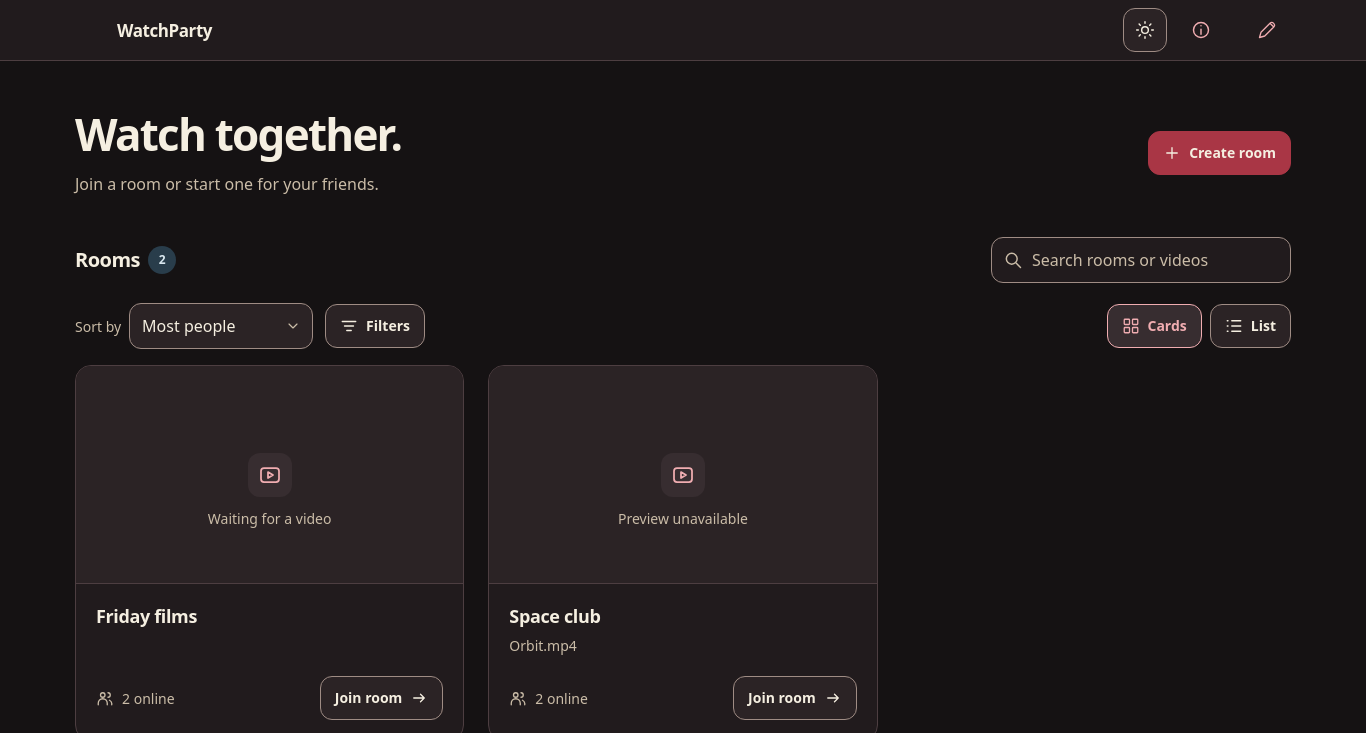
Test: React hub › searches room names and videos and recovers from an empty result
Expected: the heading "Space club" is shown, top-left (509, 604), bottom-right (600, 628)
Type "orbit" into the search field labelled "Search rooms" at (1141, 260), box top-left (991, 237), bottom-right (1291, 283)
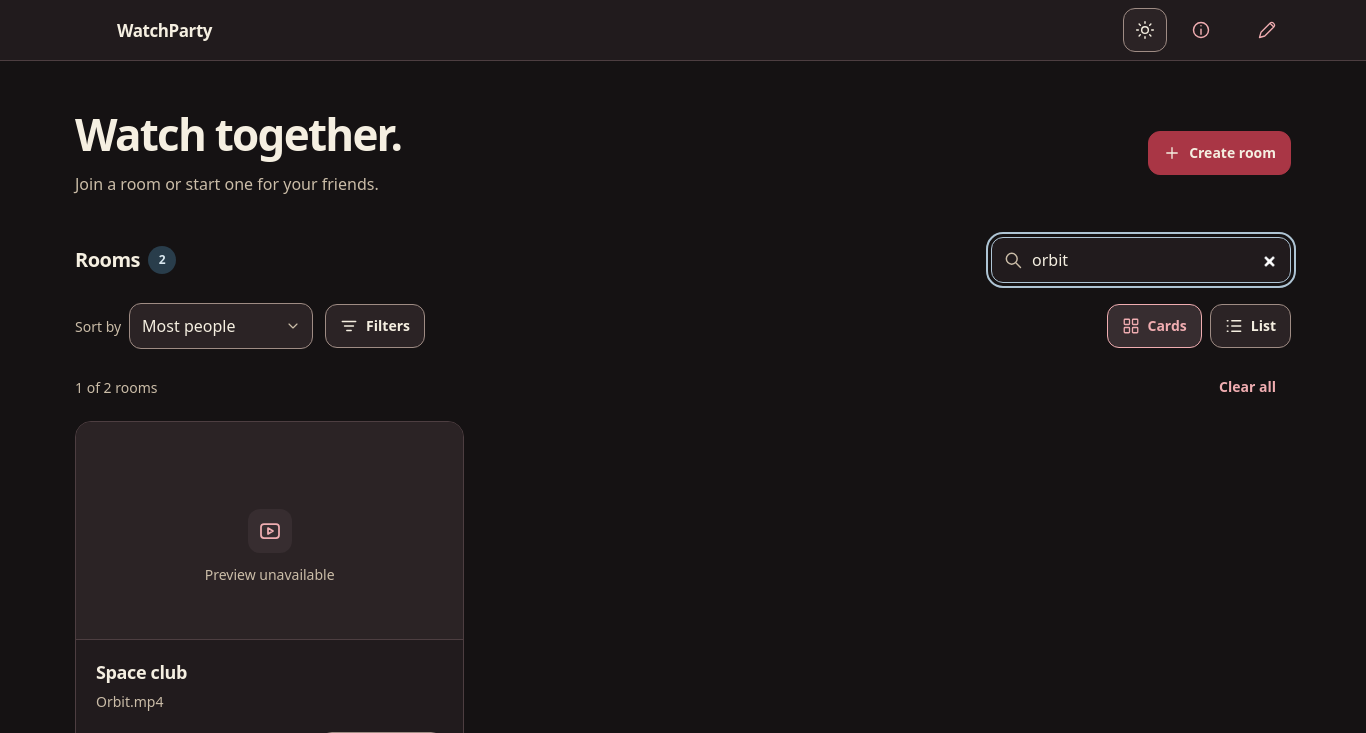
Expected: the heading "Space club" is shown, top-left (96, 660), bottom-right (187, 684)
Now the heading "Friday films" is gone
Replace the text in the search field named "Search rooms" with "missing" at (1141, 260), box top-left (991, 237), bottom-right (1291, 283)
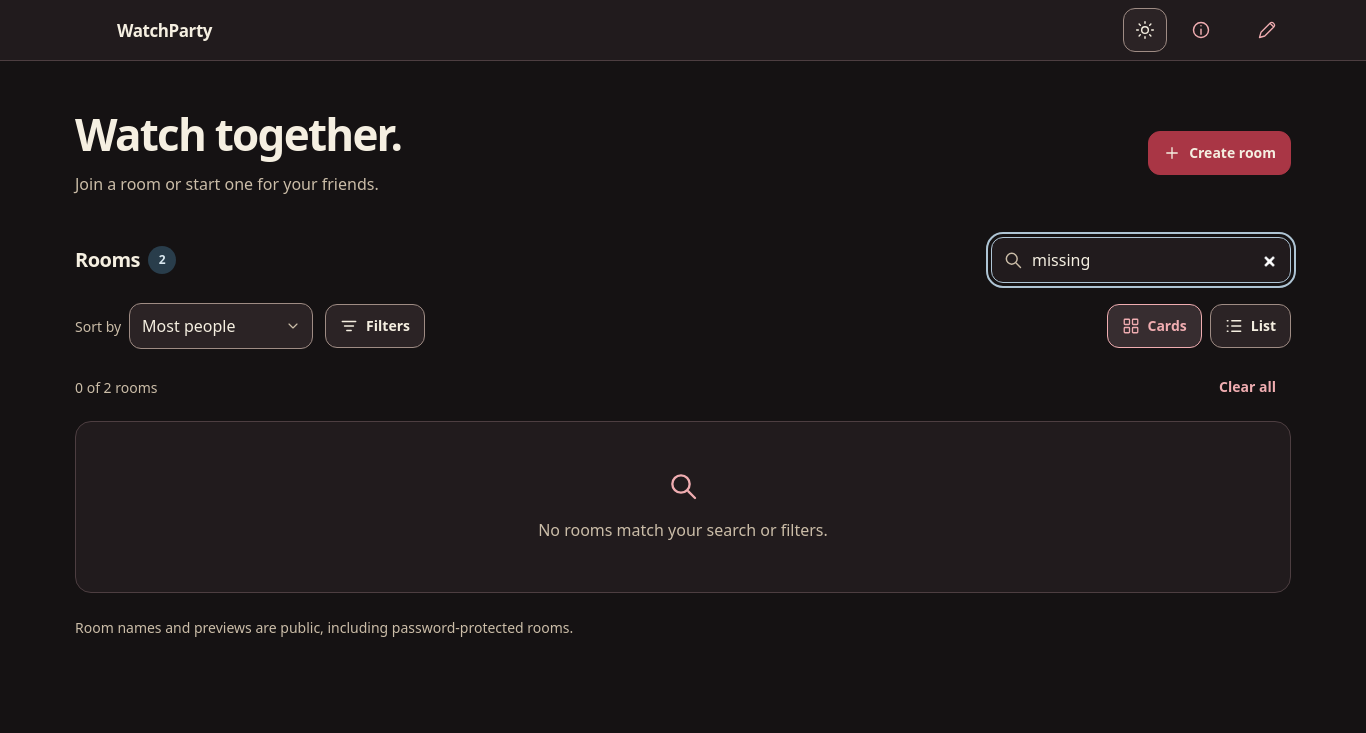
Now the text "No rooms match your search or filters." is shown, box top-left (538, 518), bottom-right (828, 544)
Click the button "Clear all" at (1248, 387), box top-left (1204, 365), bottom-right (1291, 409)
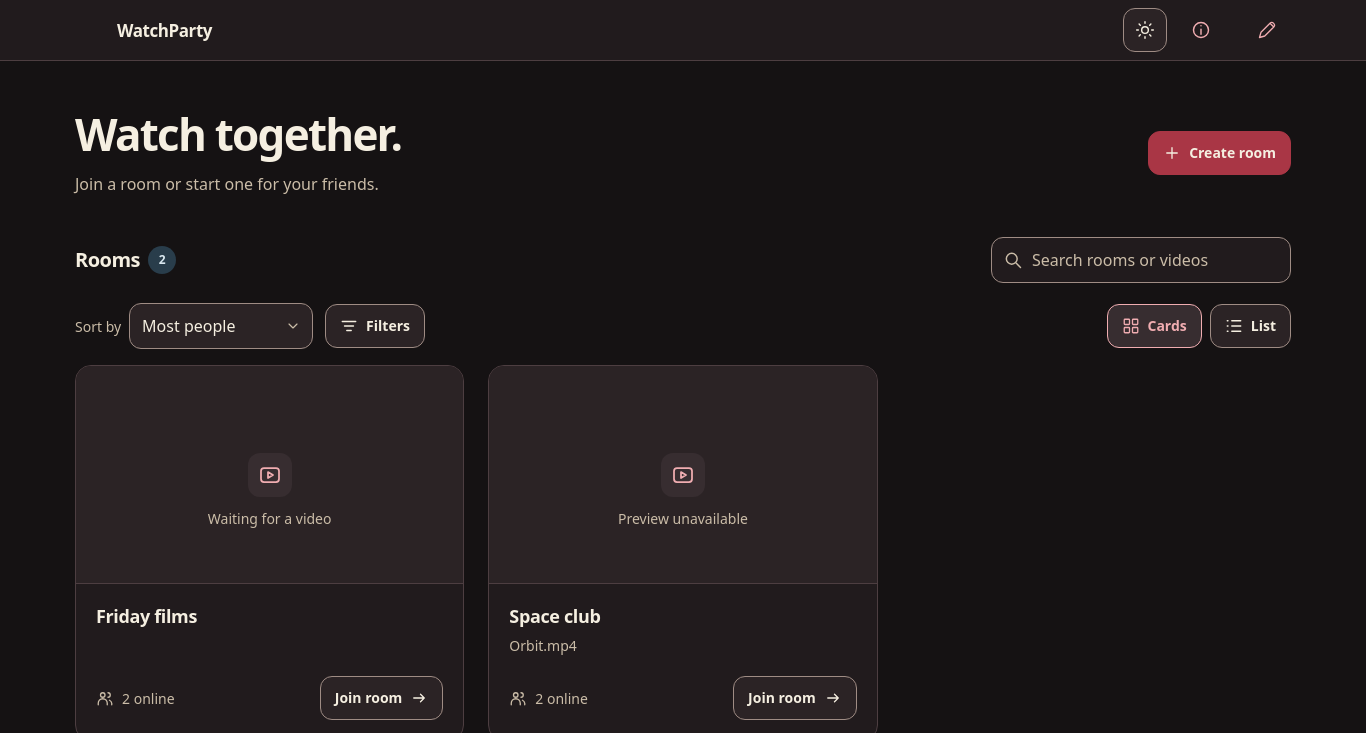
Now the heading "Friday films" is shown, box top-left (96, 604), bottom-right (197, 628)
Now the heading "Space club" is shown, box top-left (509, 604), bottom-right (600, 628)
